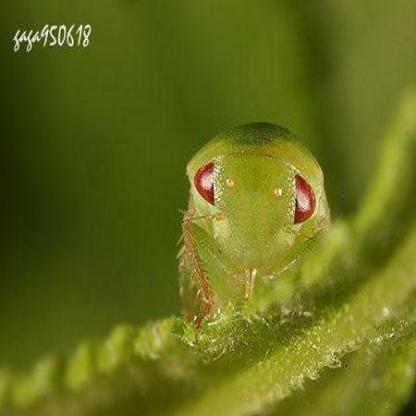green-leafhopper: (174, 122, 334, 319)
